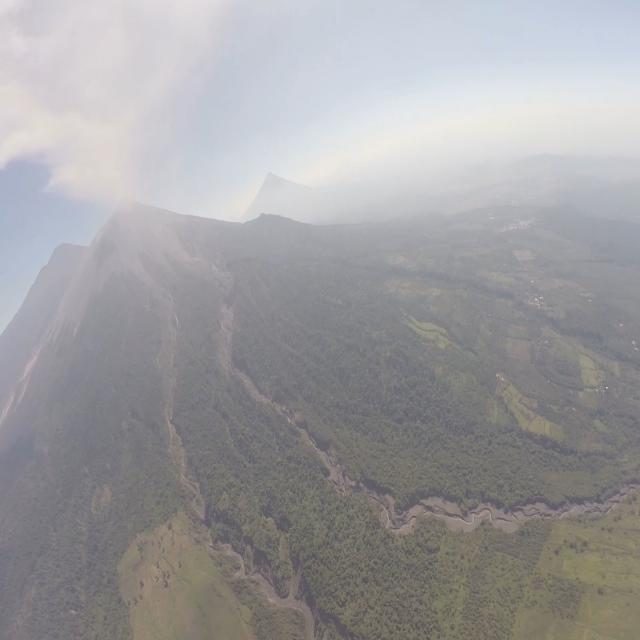Summit: (112, 193, 144, 211)
